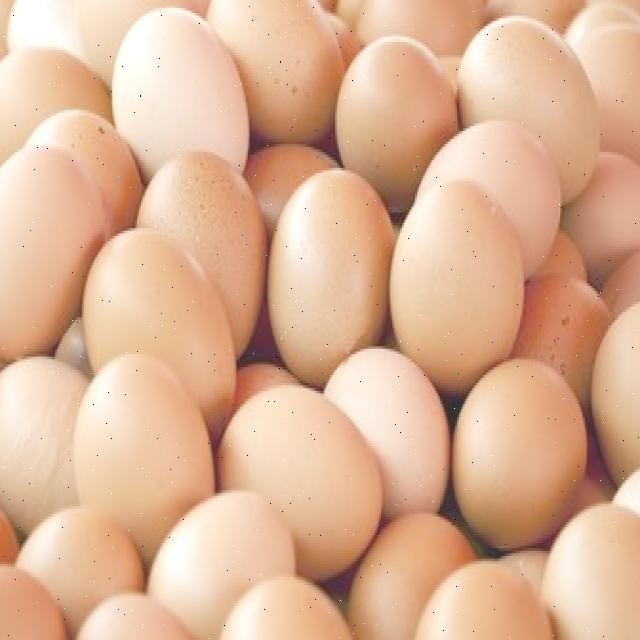Brown Egg: (223, 370, 384, 562), (141, 159, 265, 358), (387, 185, 525, 363), (270, 171, 390, 373), (458, 19, 603, 181), (454, 366, 582, 538), (92, 348, 214, 516), (0, 134, 95, 341), (566, 146, 640, 275), (594, 296, 640, 469)
White Egg: (110, 2, 255, 167)
